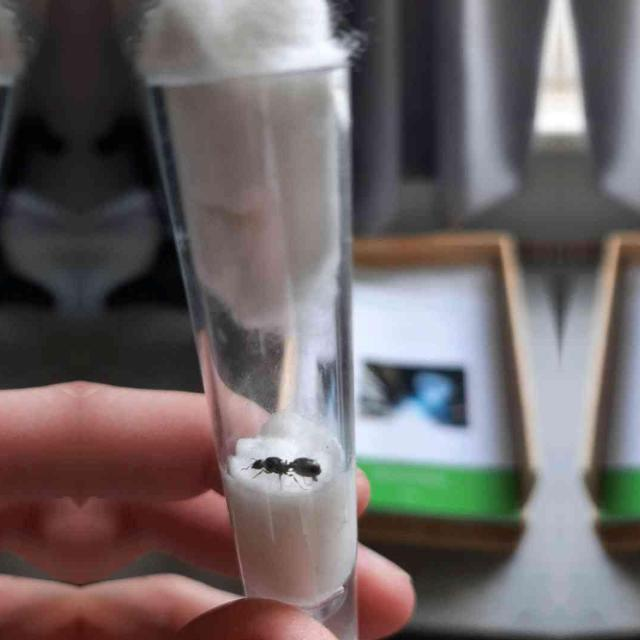Tetramorium: (240, 449, 326, 487)
